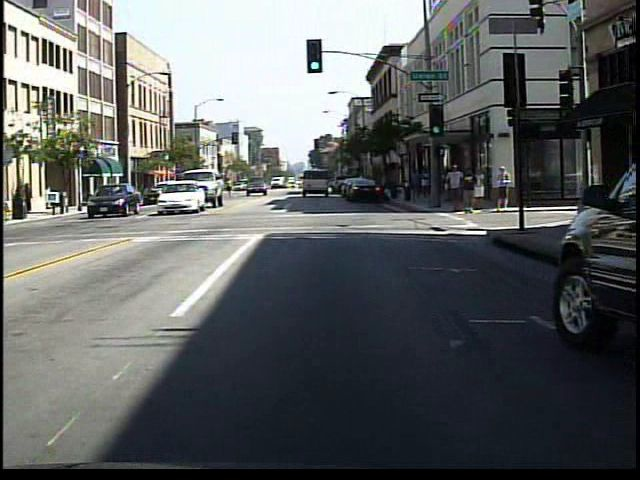person: (443, 162, 464, 214), (492, 164, 512, 215), (459, 166, 479, 216), (473, 165, 490, 215), (416, 164, 433, 206), (221, 174, 238, 202)
